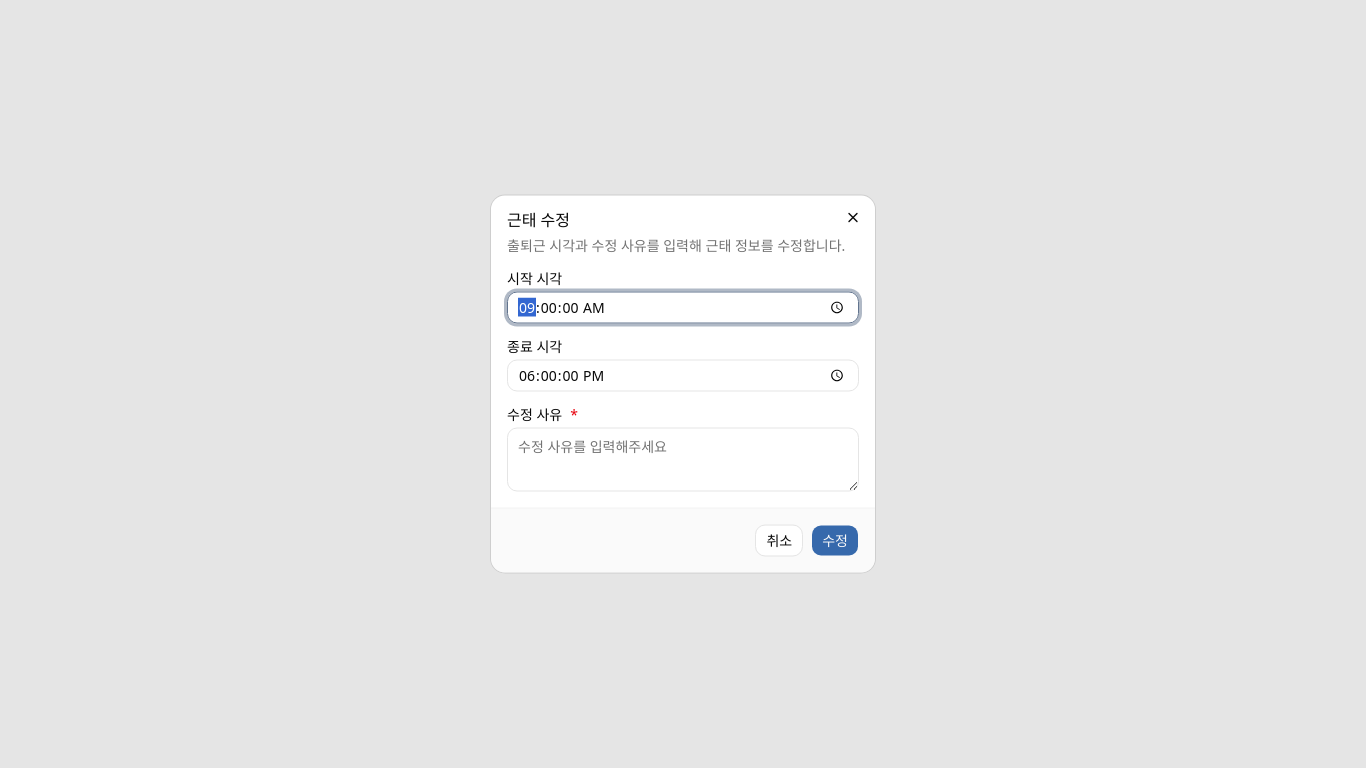
UpdateAttendanceDialog › 서버 에러(이미 승인된 근태 수정 시도 등) 시 다이얼로그가 닫히지 않고 에러가 표시된다
Type "오전 반차 정정" into the text box labelled "수정 사유 *" at (683, 460), box [507,428,859,492]
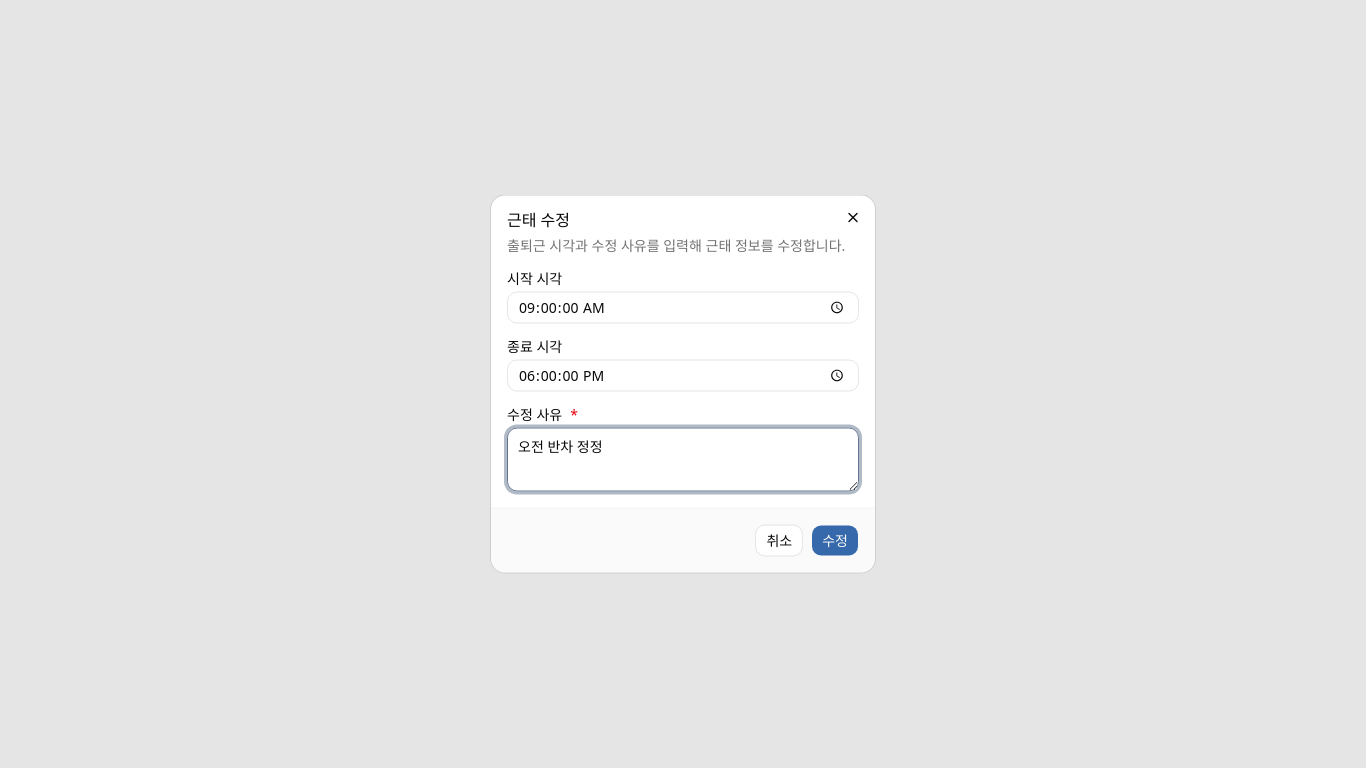
Click the button "수정" at (835, 540), box [811,524,859,556]
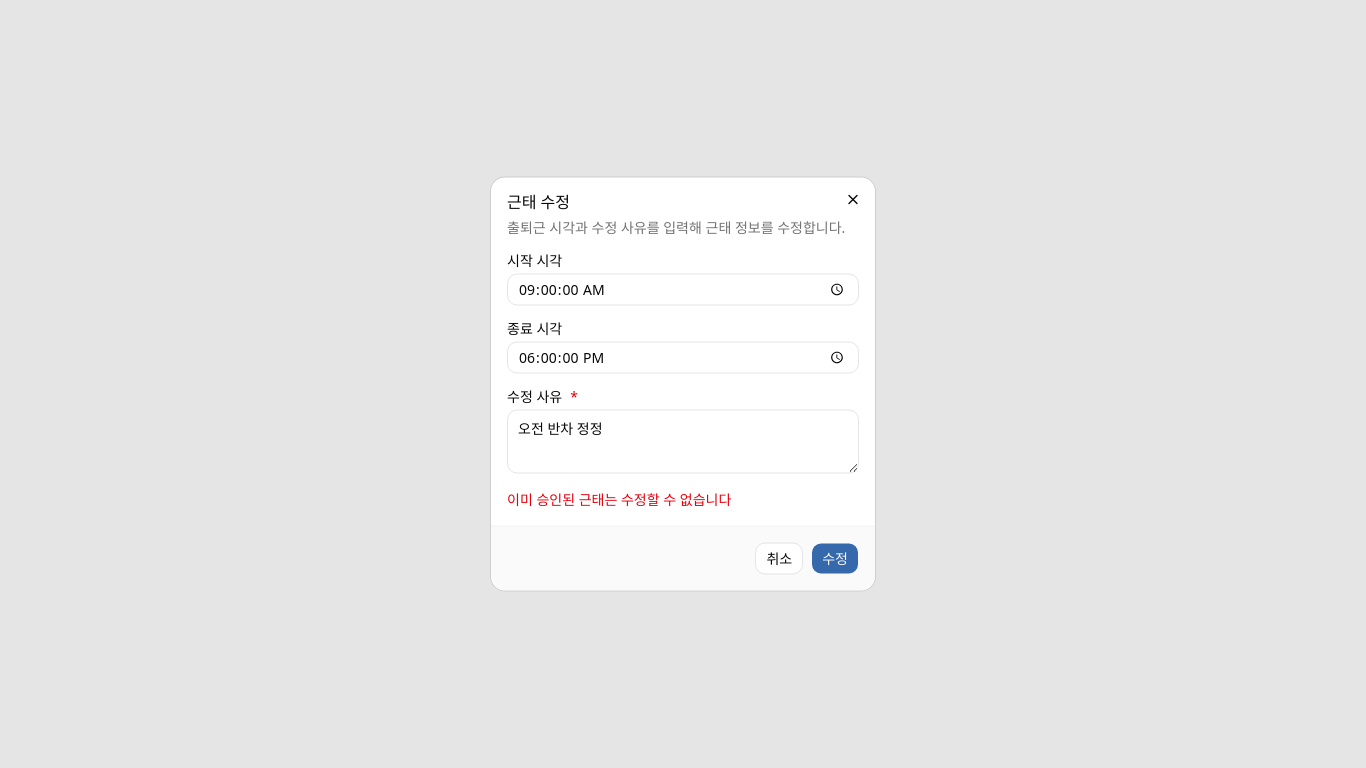
Check: the text "이미 승인된 근태는 수정할 수 없습니다" is shown, box [507,490,731,508]
